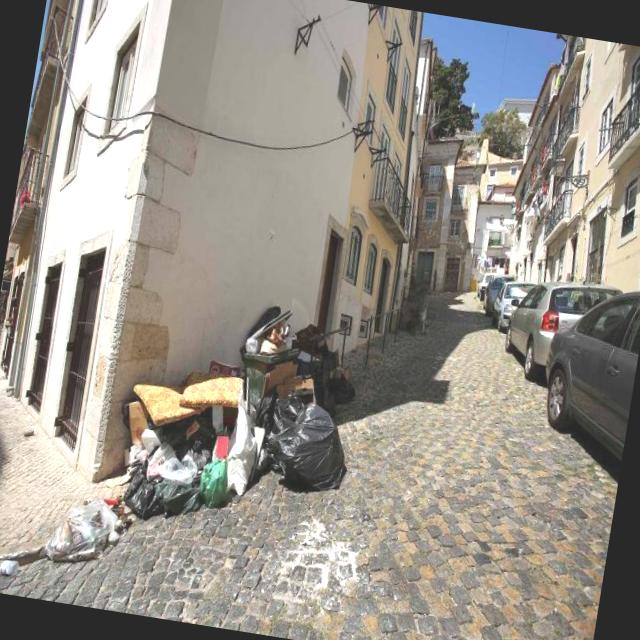garbage: (97, 268, 384, 564)
